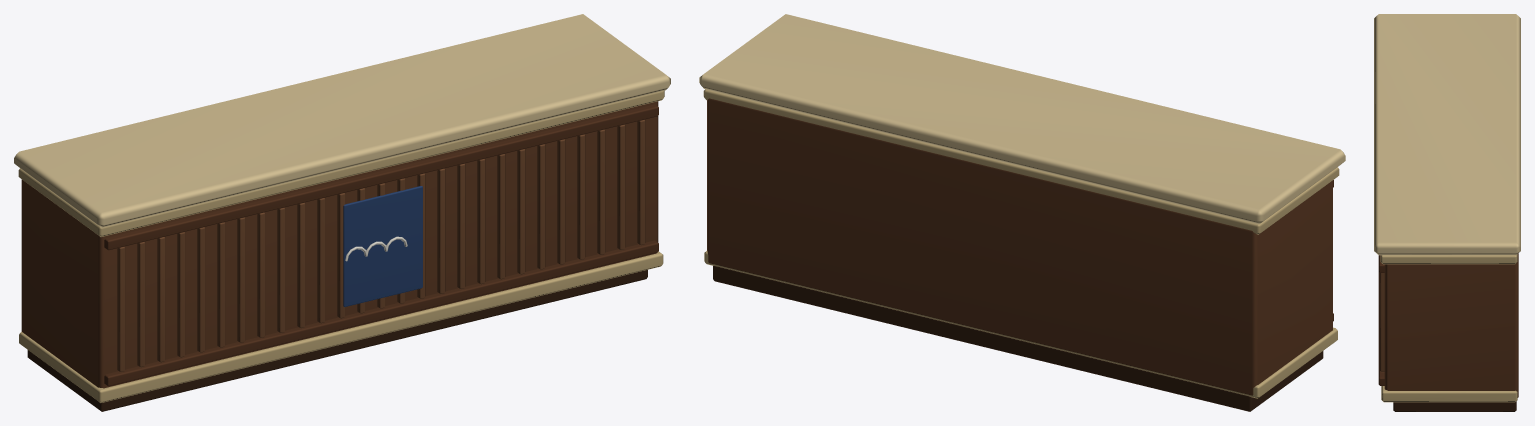
File: furn_sushi_counter.glb
3 views of the same model, side by side, from view 1: azimuth 30°, elevation 25°; view 2: azimuth 150°, elevation 25°; view 3: azimuth 270°, elevation 25° (orthographic). The views are drawn at different scales.
Parts seen in each view (by area): view 1: furn_sushi_counter_main; view 2: furn_sushi_counter_main; view 3: furn_sushi_counter_main.
Part boxes in pixels (box(x1,y1,x2,y2)): furn_sushi_counter_main: box(14, 14, 670, 411); furn_sushi_counter_main: box(699, 14, 1345, 411); furn_sushi_counter_main: box(1374, 14, 1520, 411).
Size of the model in its own units: 2.87 by 1 by 0.767.
